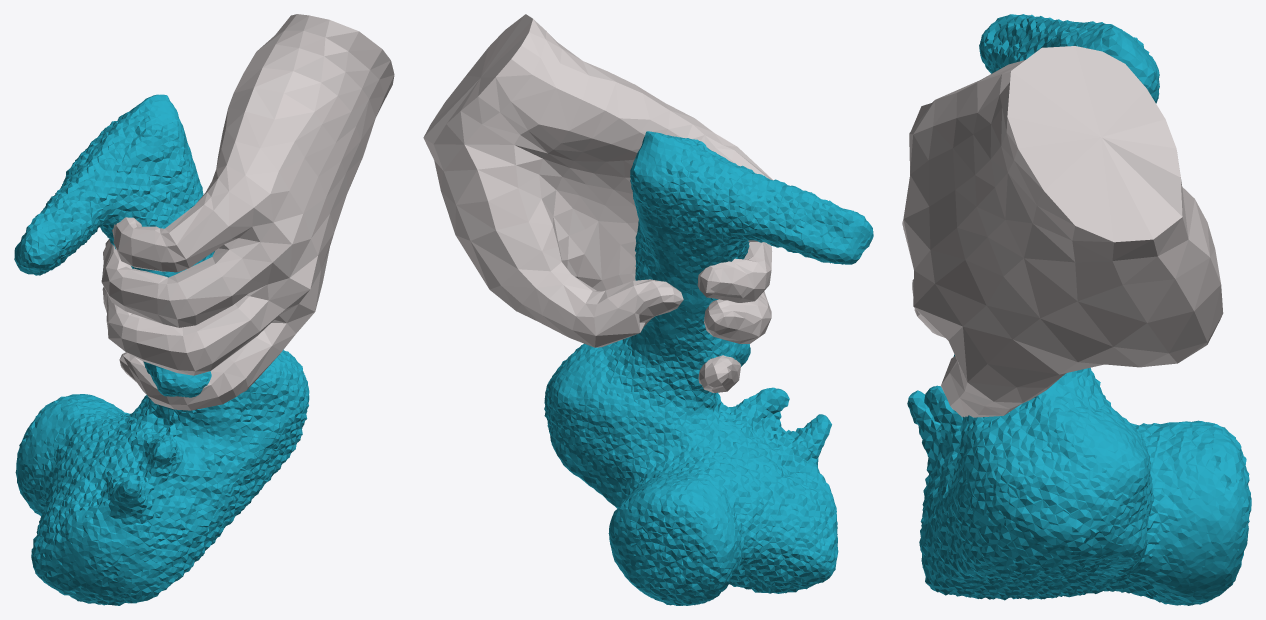
The picture shows the model from 3 angles, left to right: view 1: azimuth 30°, elevation 25°; view 2: azimuth 150°, elevation 25°; view 3: azimuth 270°, elevation 25°; orthographic projection. The views are drawn at different scales.
Visible parts, largest first — view 1: world; view 2: world; view 3: world.
Part boxes in pixels (x1,y1,x2,y2): world: [14, 14, 394, 605]; world: [423, 14, 873, 605]; world: [902, 14, 1251, 605].
Size of the model in its own units: 0.1721 by 0.2127 by 0.0949.
